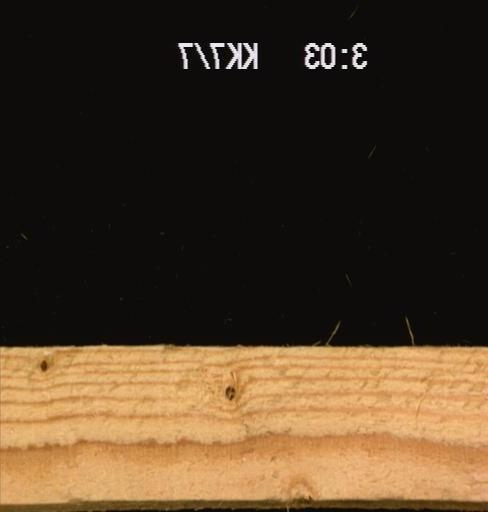edge_knot: (285, 474, 318, 507)
small_knot: (224, 384, 237, 401), (39, 358, 49, 372)
